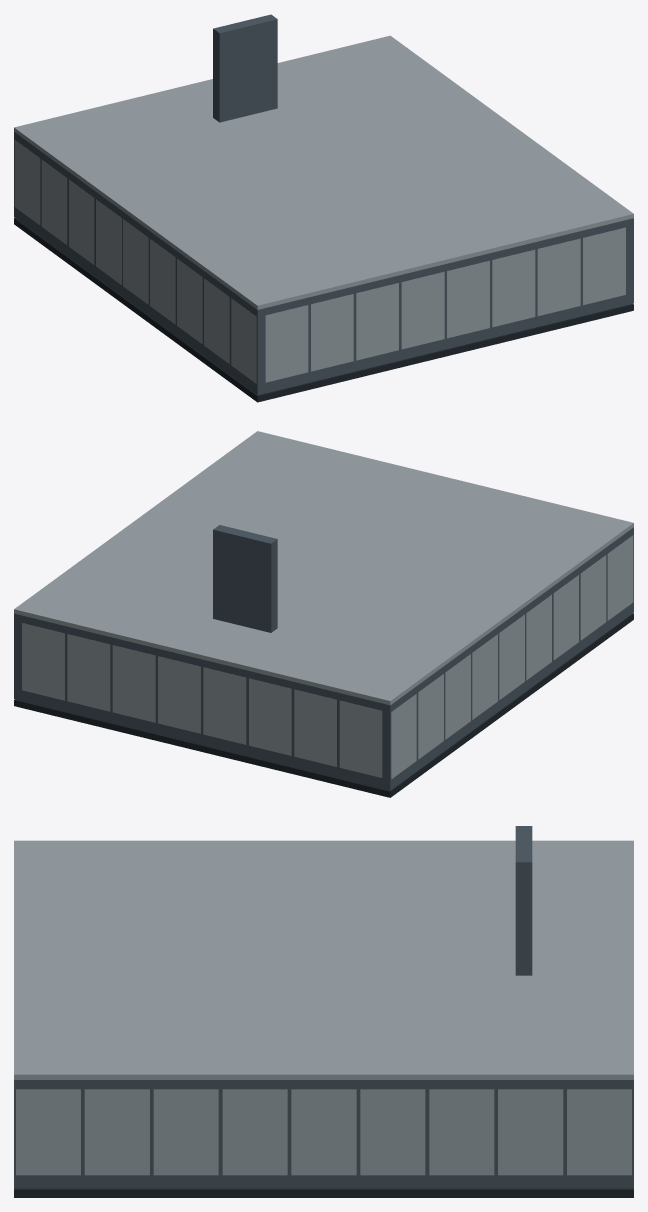
Rendered from split-signal.glb.
3 views of the same model, one above another, from view 1: azimuth 30°, elevation 25°; view 2: azimuth 150°, elevation 25°; view 3: azimuth 270°, elevation 25° (orthographic). The views are drawn at different scales.
Parts seen in each view (by area): view 1: Environment_Static; view 2: Environment_Static; view 3: Environment_Static.
Boxes of the visible parts, x1,y1,x2,y2 form: Environment_Static: (14, 14, 633, 402); Environment_Static: (14, 431, 633, 797); Environment_Static: (14, 826, 633, 1197).
Bounding box in the file's own units: 16.6 × 7.84 × 18.6.
